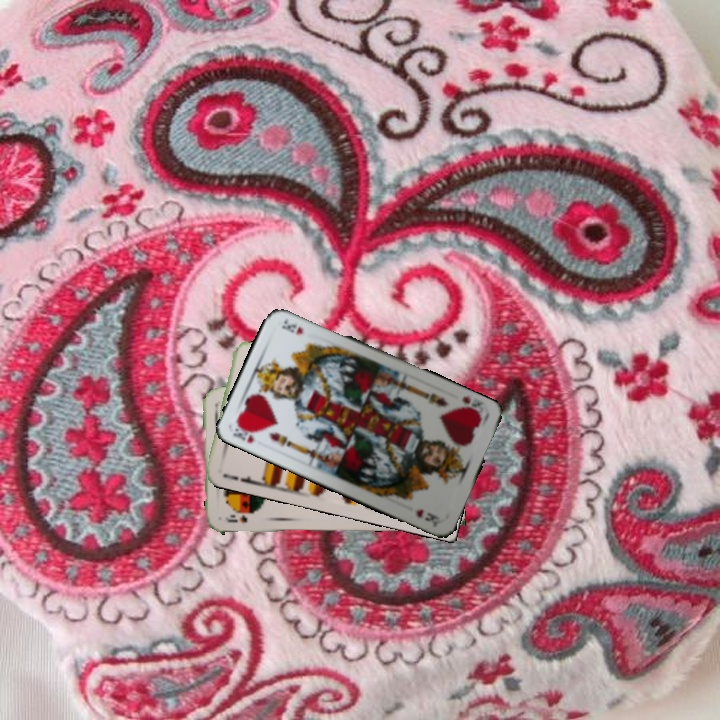E7: (218, 469, 259, 487)
HK: (229, 421, 257, 446), (458, 392, 483, 410)
SO: (222, 509, 257, 525)
